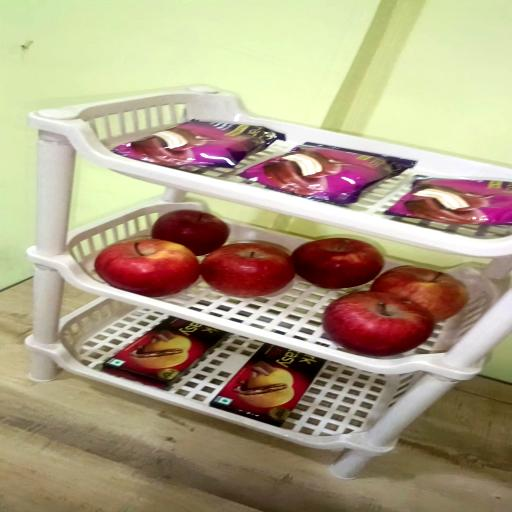Apple: (323, 292, 434, 358), (94, 240, 199, 298), (371, 267, 467, 323), (202, 244, 296, 299), (292, 240, 385, 290), (153, 211, 232, 258)
Choco Fills: (212, 343, 325, 427), (102, 317, 226, 389)
Choco Pie: (243, 144, 417, 208), (114, 119, 287, 169), (384, 179, 510, 228)
